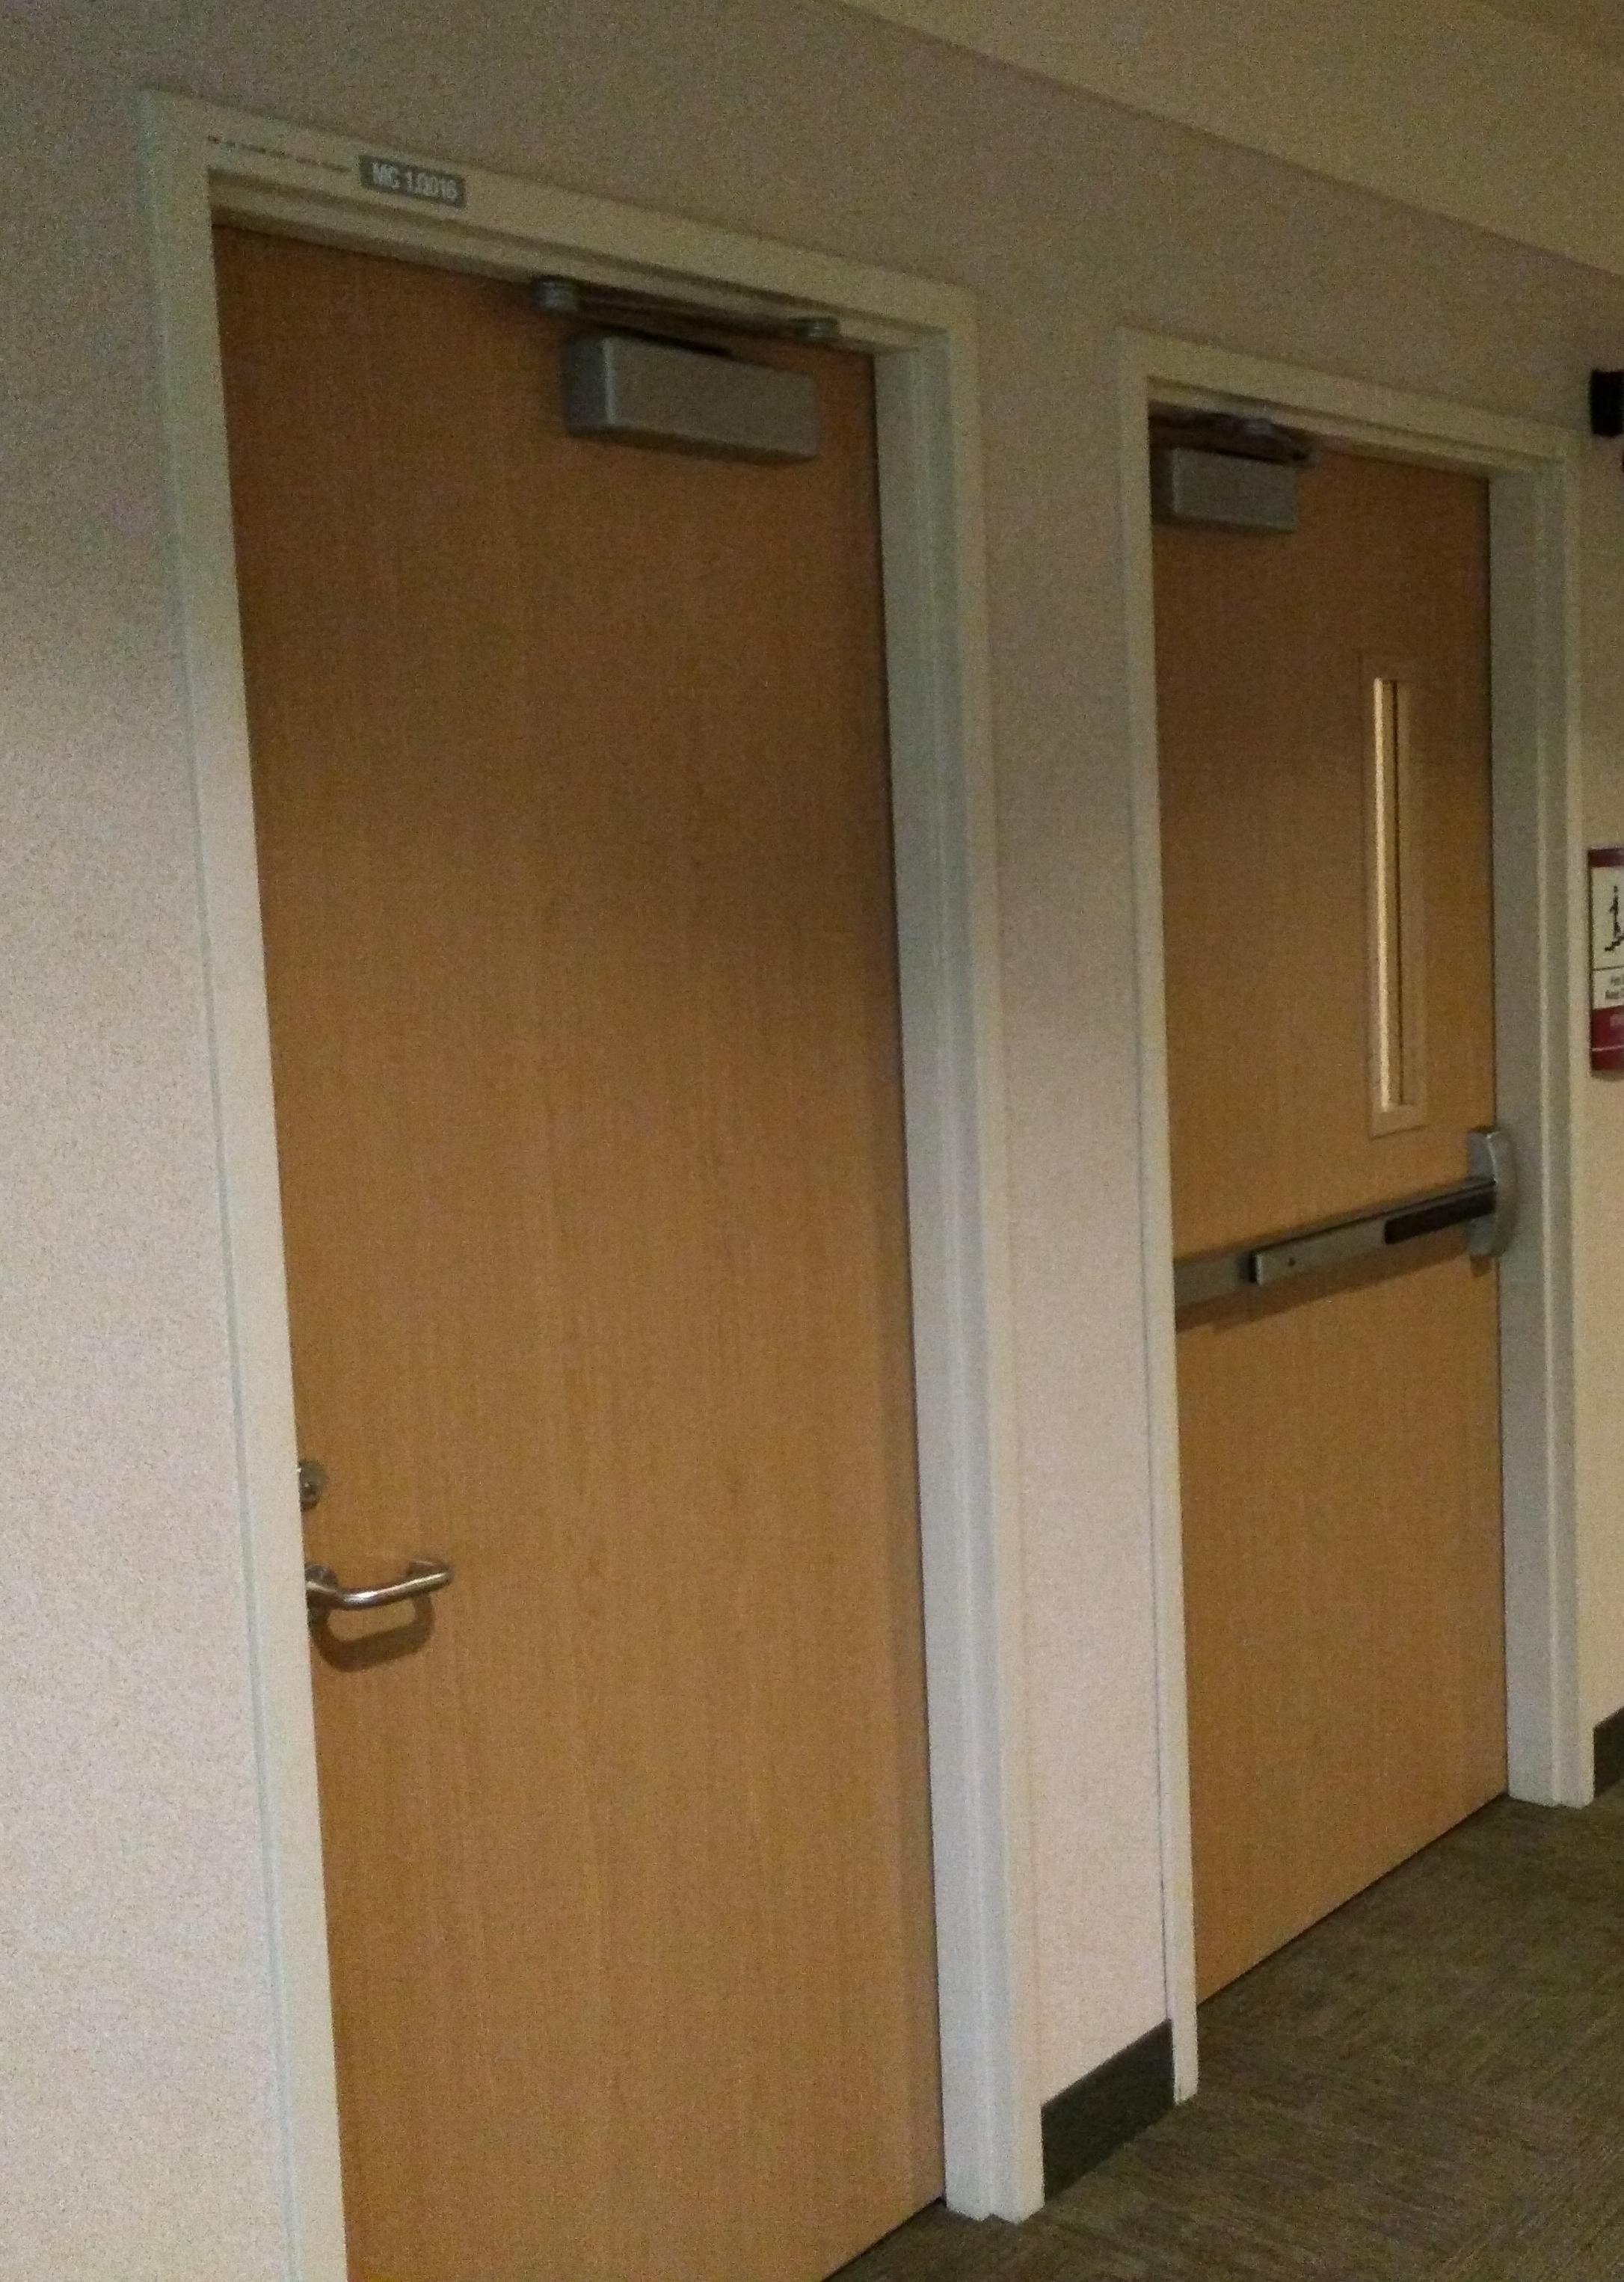door: (181, 148, 893, 2282), (1128, 369, 1554, 2010)
